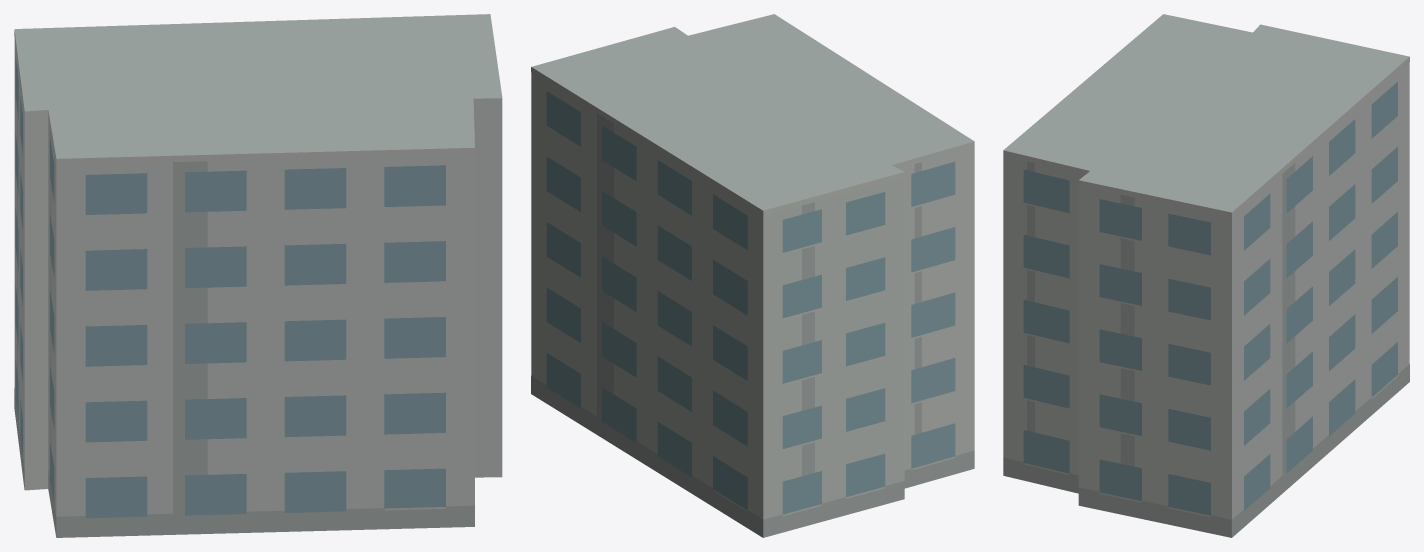
The model's file is survey-upis-32890952.glb.
3 renders of one model, left to right at view 1: azimuth 30°, elevation 25°; view 2: azimuth 150°, elevation 25°; view 3: azimuth 270°, elevation 25°, orthographic. The views are drawn at different scales.
Visible parts, largest first — view 1: survey-upis-32890952.tmp; view 2: survey-upis-32890952.tmp; view 3: survey-upis-32890952.tmp.
Boxes of the visible parts, x1,y1,x2,y2 form: survey-upis-32890952.tmp: (14,14,502,537); survey-upis-32890952.tmp: (531,14,974,537); survey-upis-32890952.tmp: (1003,14,1409,537).
Bounding box in the file's own units: 18.85 × 14.4 × 16.31.
